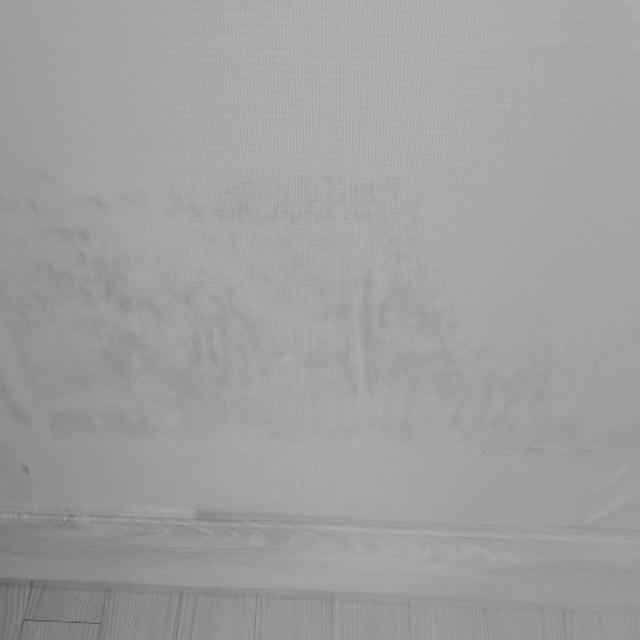stain marks: (0, 147, 640, 491)
